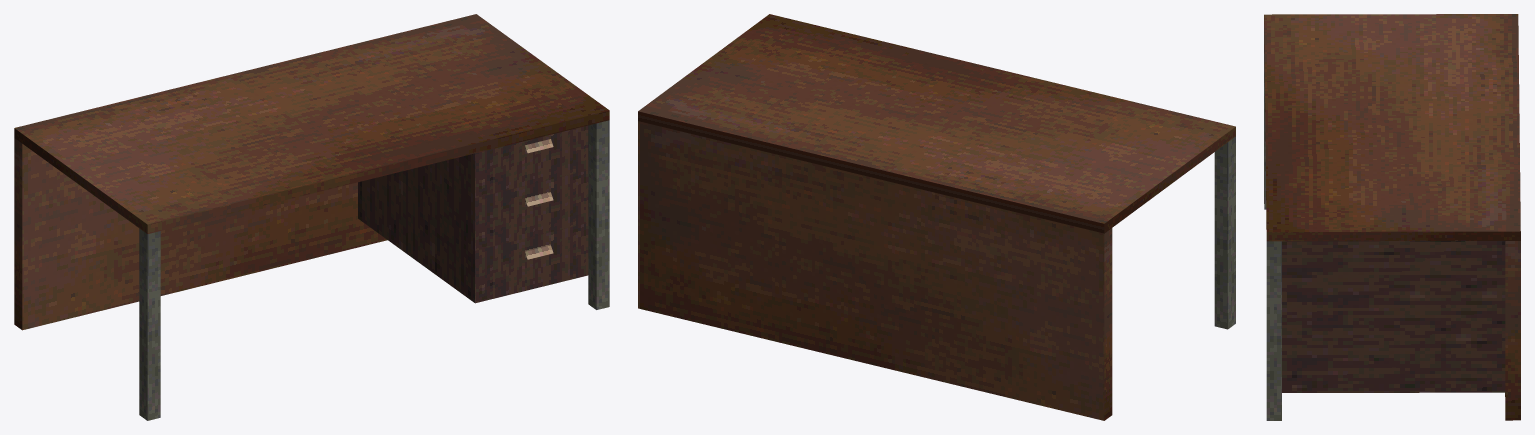
File: desk2_alt3.glb
3 renders of one model, left to right at view 1: azimuth 30°, elevation 25°; view 2: azimuth 150°, elevation 25°; view 3: azimuth 270°, elevation 25°, orthographic. The views are drawn at different scales.
Parts seen in each view (by area): view 1: desk2_alt3; view 2: desk2_alt3; view 3: desk2_alt3.
Boxes of the visible parts, x1,y1,x2,y2 form: desk2_alt3: (14, 14, 609, 420); desk2_alt3: (638, 14, 1235, 420); desk2_alt3: (1264, 14, 1520, 420).
Size of the model in its own units: 2.21 by 0.8911 by 1.1.
1 material, 1 textured.
